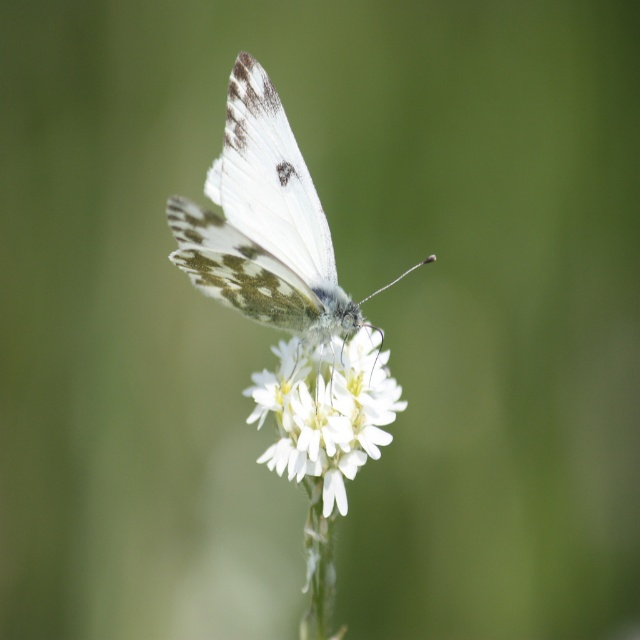Butterfly: (166, 49, 438, 417)
